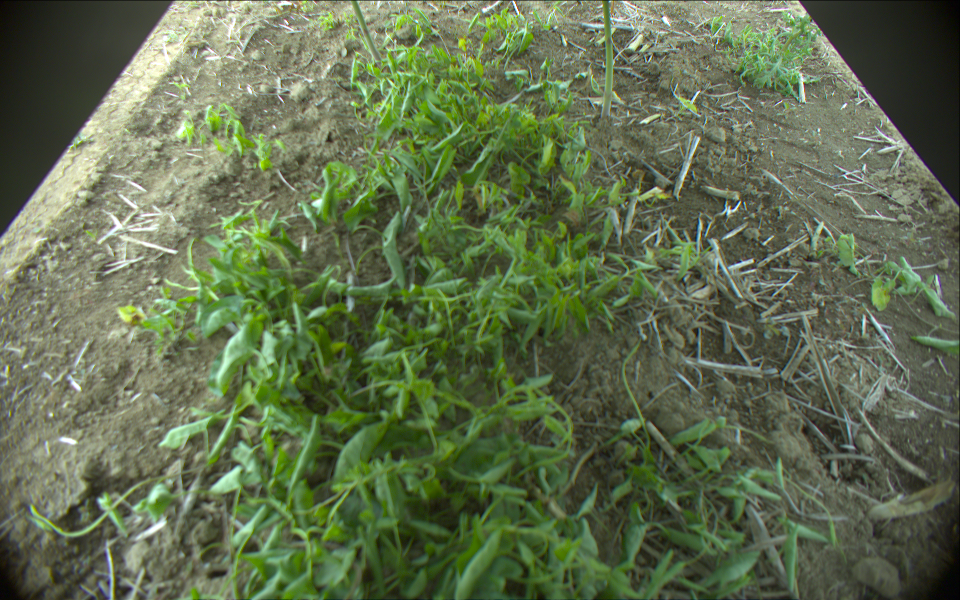aspa: (598, 1, 614, 119), (351, 1, 380, 61)
